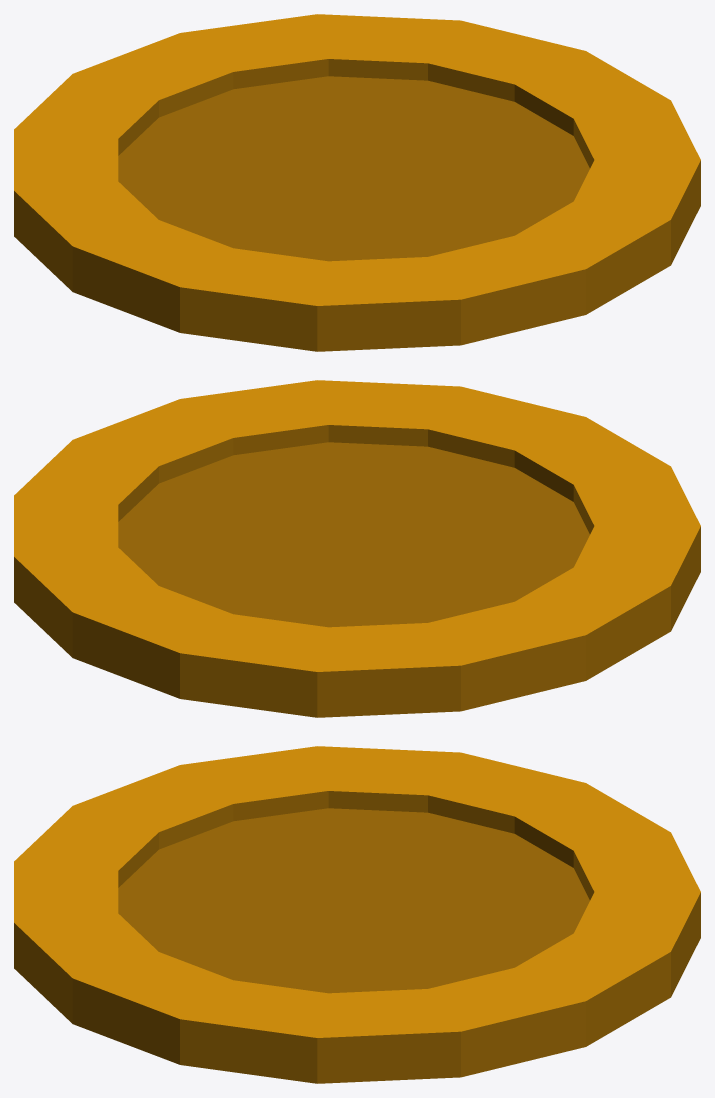
Rendered from Coin.fbx.
3 views of the same model, one above another, from view 1: azimuth 30°, elevation 25°; view 2: azimuth 150°, elevation 25°; view 3: azimuth 270°, elevation 25° (orthographic).
Parts seen in each view (by area): view 1: GoldCoin; view 2: GoldCoin; view 3: GoldCoin.
Boxes of the visible parts, <box> form: GoldCoin: <box>14,14,700,351</box>; GoldCoin: <box>14,380,700,717</box>; GoldCoin: <box>14,746,700,1083</box>.
Bounding box in the file's own units: 199 × 14.54 × 198.
